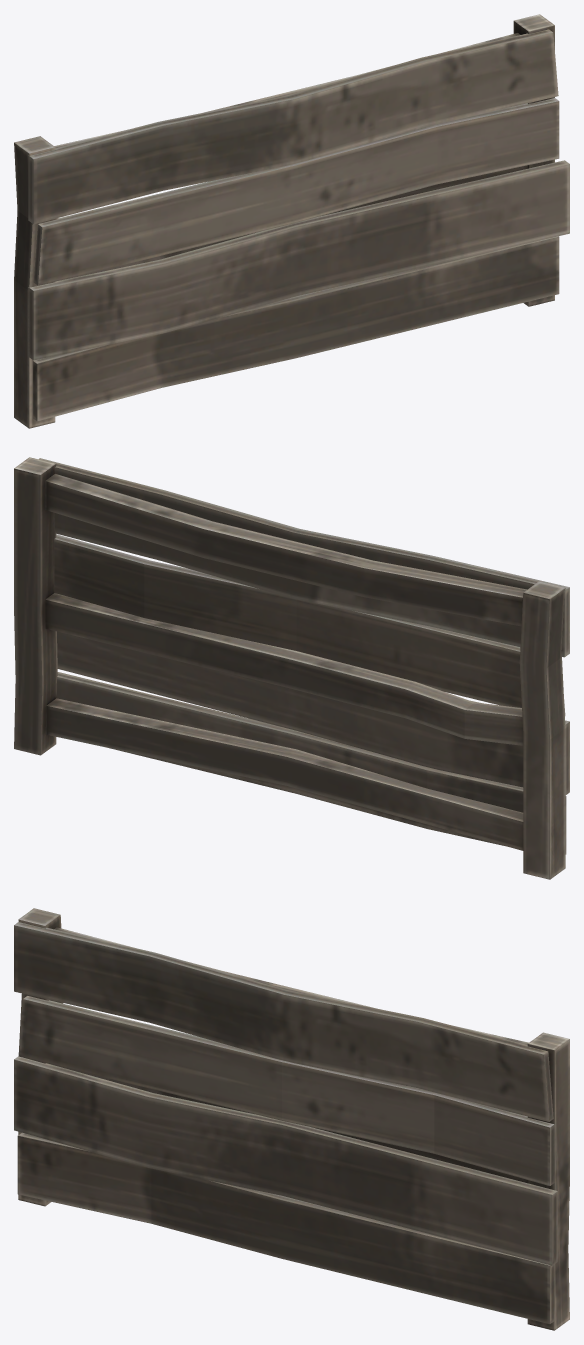
Rendered from Wood_ShortWall_2x.glb.
3 renders of one model, top to bottom at view 1: azimuth 30°, elevation 25°; view 2: azimuth 150°, elevation 25°; view 3: azimuth 330°, elevation 25°, orthographic.
Visible parts, largest first — view 1: Wood_ShortWall_2x; view 2: Wood_ShortWall_2x; view 3: Wood_ShortWall_2x.
Boxes of the visible parts, x1,y1,x2,y2 form: Wood_ShortWall_2x: [14, 14, 569, 428]; Wood_ShortWall_2x: [14, 457, 569, 879]; Wood_ShortWall_2x: [14, 908, 569, 1330].
Size of what is drawn, in the model's own units: 2.02 by 1 by 0.1559.
Materials: 1 (1 with a texture image).
